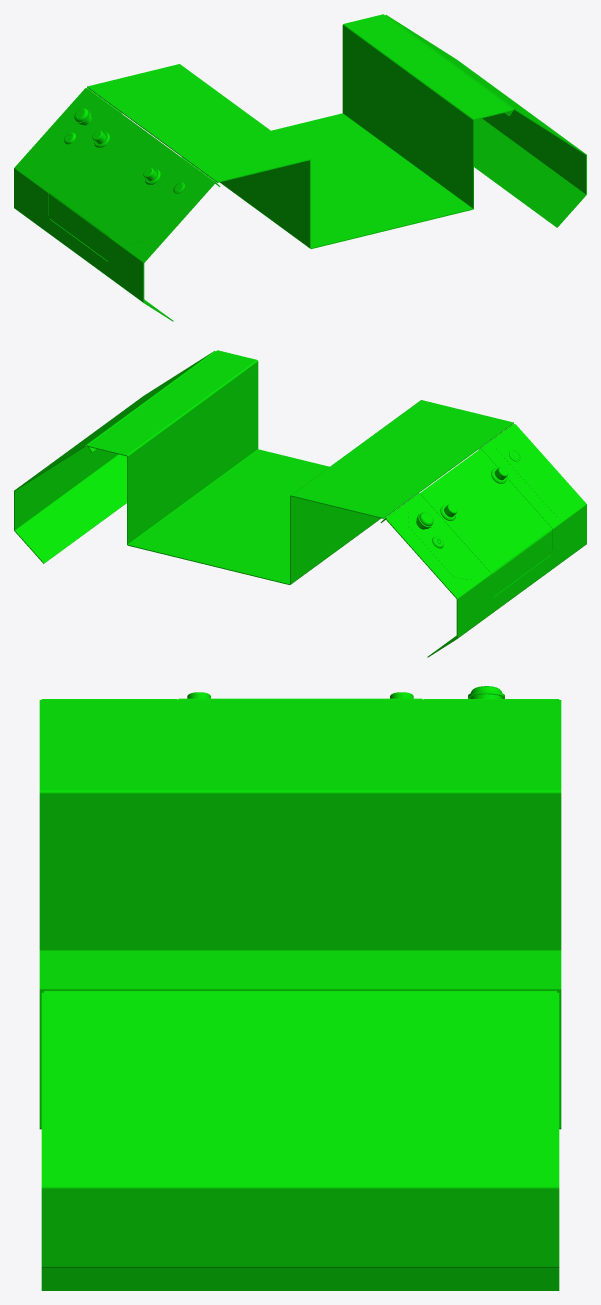
Rendered from top_chassis_bus.dae.
The picture shows the model from 3 angles, top to bottom: view 1: azimuth 30°, elevation 25°; view 2: azimuth 150°, elevation 25°; view 3: azimuth 270°, elevation 25°; orthographic projection. The views are drawn at different scales.
Visible parts, largest first — view 1: Top_Chassis; view 2: Top_Chassis; view 3: Top_Chassis.
Boxes of the visible parts, x1,y1,x2,y2 form: Top_Chassis: (14, 14, 586, 321); Top_Chassis: (14, 350, 586, 657); Top_Chassis: (39, 686, 561, 1290).
Bounding box in the file's own units: 0.812 × 0.4137 × 0.2264.
